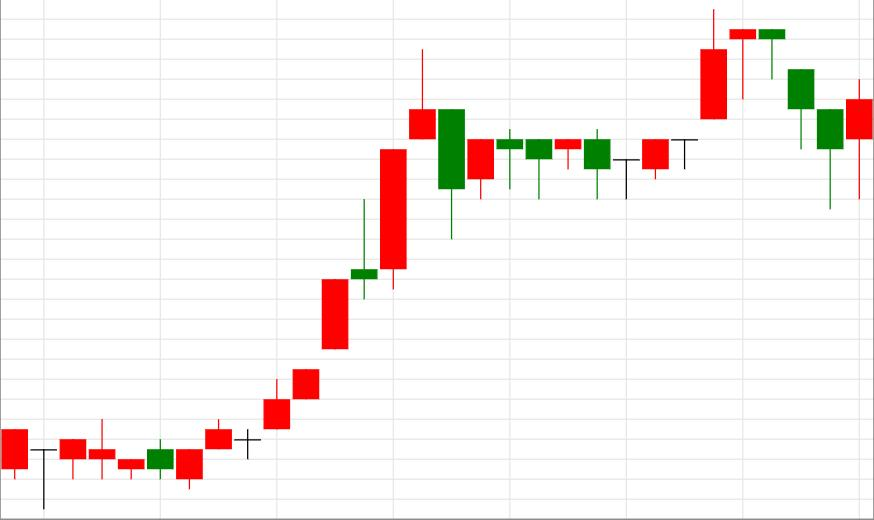shooting_star_fall: (233, 49, 435, 459)
